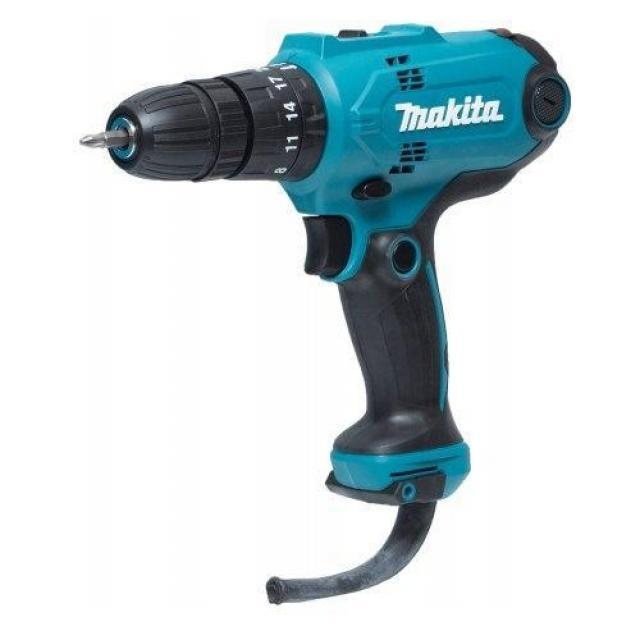drill: (80, 22, 573, 506)
